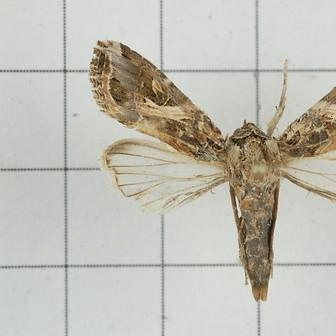Spodoptera litura: (88, 40, 335, 301)
